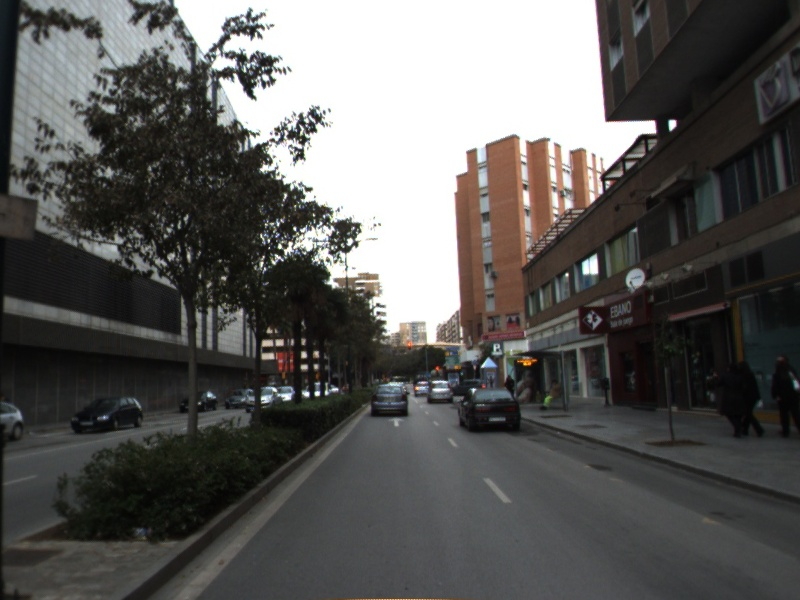STRAIGHT: (386, 415, 407, 429)
